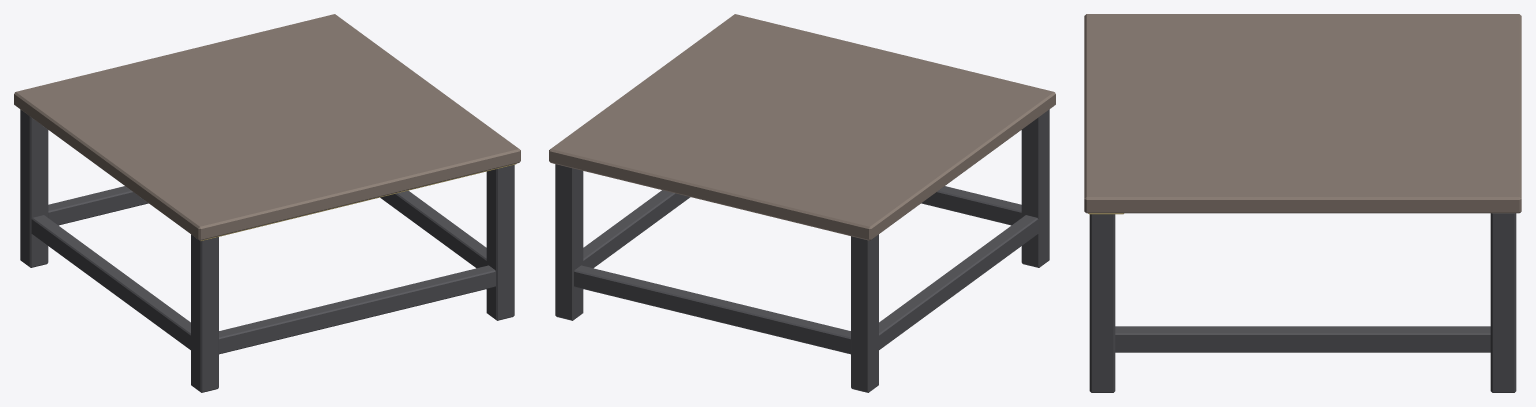
Rendered from theatre-stage-and-backstage-rostrum-block-f552283b__35888.glb.
The picture shows the model from 3 angles, left to right: view 1: azimuth 30°, elevation 25°; view 2: azimuth 150°, elevation 25°; view 3: azimuth 270°, elevation 25°; orthographic projection. The views are drawn at different scales.
Visible parts, largest first — view 1: rostrum-block; view 2: rostrum-block; view 3: rostrum-block.
Part boxes in pixels (x1,y1,x2,y2): rostrum-block: (14, 14, 520, 392); rostrum-block: (549, 14, 1055, 392); rostrum-block: (1084, 14, 1521, 392).
Size of the model in its own units: 1.2 by 0.5999 by 1.2.
